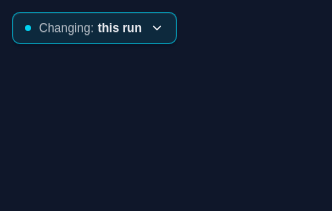
Scenario: the badge names the mode and opens a menu of both, with the current one checked
The width and height of the screenshot is (332, 211).
Click the button "Changing: this run" at (94, 28), box [12, 12, 177, 44]
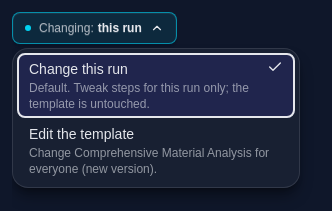
Expected: the menu named "Builder mode" is shown, [12, 48, 300, 188]
